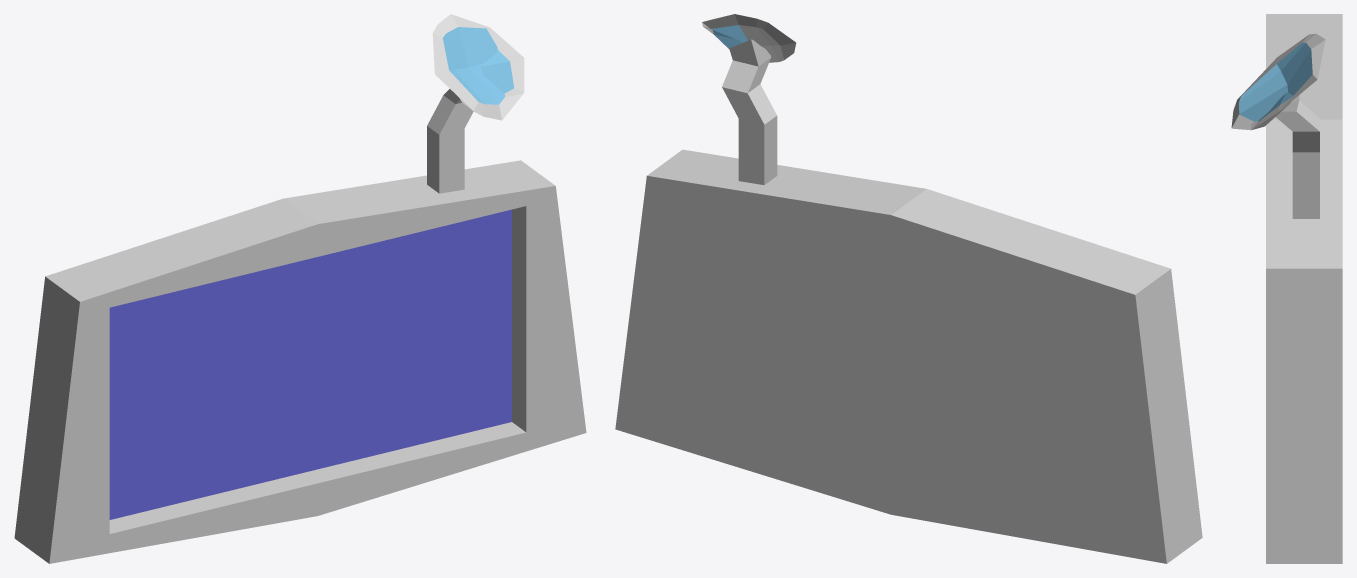
The picture shows the model from 3 angles, left to right: view 1: azimuth 30°, elevation 25°; view 2: azimuth 150°, elevation 25°; view 3: azimuth 270°, elevation 25°; orthographic projection. The views are drawn at different scales.
Visible parts, largest first — view 1: Cube.022; view 2: Cube.022; view 3: Cube.022.
Part boxes in pixels (bbox=[...]): Cube.022: bbox=[14, 14, 586, 563]; Cube.022: bbox=[615, 14, 1202, 563]; Cube.022: bbox=[1231, 14, 1342, 563].
Size of the model in its own units: 0.8814 by 0.6947 by 0.1439.
